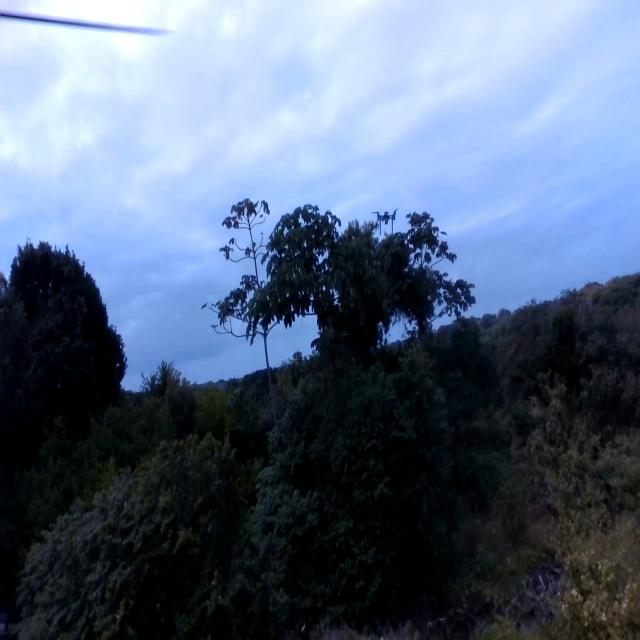-uav-: (371, 206, 402, 238)
